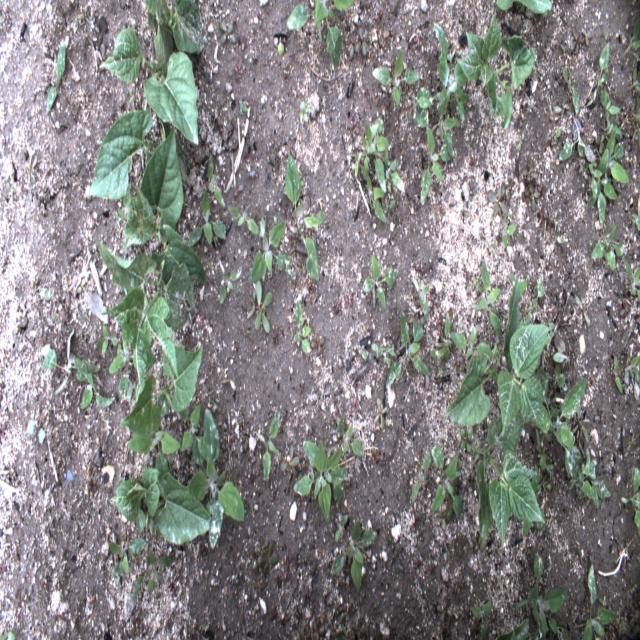crop: (444, 276, 552, 432), (96, 240, 200, 392), (119, 127, 205, 287), (98, 27, 200, 146), (472, 415, 544, 552), (457, 11, 537, 132), (118, 341, 204, 433), (110, 468, 212, 544), (88, 112, 157, 197), (140, 2, 204, 61)
weed: (188, 407, 242, 546), (499, 551, 572, 640), (535, 366, 592, 468), (284, 156, 326, 285), (295, 439, 349, 526), (583, 138, 629, 228), (327, 512, 377, 593), (383, 312, 430, 392), (432, 23, 468, 127), (287, 6, 342, 70), (582, 558, 621, 639), (370, 48, 419, 110), (249, 221, 295, 284), (39, 351, 100, 395), (566, 448, 610, 507), (429, 444, 463, 518), (472, 257, 502, 340), (68, 265, 110, 324), (132, 548, 174, 606), (125, 428, 180, 472), (418, 130, 450, 205), (186, 188, 225, 245), (110, 320, 136, 404), (364, 118, 392, 195), (107, 534, 147, 586), (363, 254, 397, 314), (588, 221, 624, 277), (255, 411, 280, 480), (588, 42, 612, 106), (559, 124, 597, 164), (45, 47, 65, 119), (453, 328, 494, 363), (335, 416, 367, 460), (620, 464, 639, 538), (76, 374, 116, 409), (364, 175, 389, 228), (437, 86, 455, 158), (291, 297, 312, 357), (560, 62, 582, 117), (383, 148, 406, 199), (178, 402, 201, 452), (410, 454, 432, 505), (357, 336, 393, 366), (206, 154, 226, 206), (226, 202, 258, 234), (552, 331, 569, 391), (255, 280, 274, 332), (469, 599, 493, 640), (534, 434, 554, 479), (314, 0, 356, 20), (38, 284, 57, 328), (219, 269, 240, 308), (495, 0, 553, 14), (113, 186, 133, 224), (413, 91, 433, 129), (623, 12, 639, 59), (414, 281, 431, 324), (604, 94, 621, 136), (527, 279, 545, 318), (24, 152, 44, 186), (281, 444, 301, 478), (96, 327, 119, 355), (623, 346, 639, 386), (488, 186, 509, 216), (624, 260, 639, 302), (443, 310, 454, 364), (24, 418, 45, 446), (574, 294, 590, 329), (502, 213, 515, 256), (263, 541, 279, 575), (333, 513, 350, 544), (374, 398, 390, 430), (610, 351, 622, 393), (73, 5, 93, 30), (252, 537, 270, 564), (437, 594, 453, 624), (574, 412, 590, 442), (429, 345, 443, 379), (332, 611, 350, 637), (219, 18, 235, 45), (358, 23, 370, 59), (252, 574, 269, 599), (436, 506, 450, 536), (360, 133, 370, 172), (551, 100, 571, 119), (570, 26, 583, 55), (527, 182, 539, 212), (555, 218, 567, 248), (458, 430, 474, 452), (522, 162, 540, 181), (631, 99, 639, 140), (299, 100, 311, 126), (348, 33, 359, 61), (516, 130, 528, 155), (348, 108, 358, 136), (630, 64, 639, 95), (352, 149, 361, 179), (312, 332, 324, 354), (237, 96, 248, 118), (628, 214, 640, 233), (534, 480, 551, 493), (276, 37, 287, 57), (550, 126, 561, 145), (3, 178, 16, 194), (544, 209, 554, 228), (308, 423, 316, 444), (315, 388, 324, 406), (472, 272, 479, 295), (250, 289, 256, 315), (521, 524, 534, 536), (620, 303, 629, 320), (598, 134, 605, 154), (259, 219, 266, 238), (508, 268, 515, 287), (1, 630, 14, 640), (521, 280, 528, 298), (436, 314, 441, 333)
